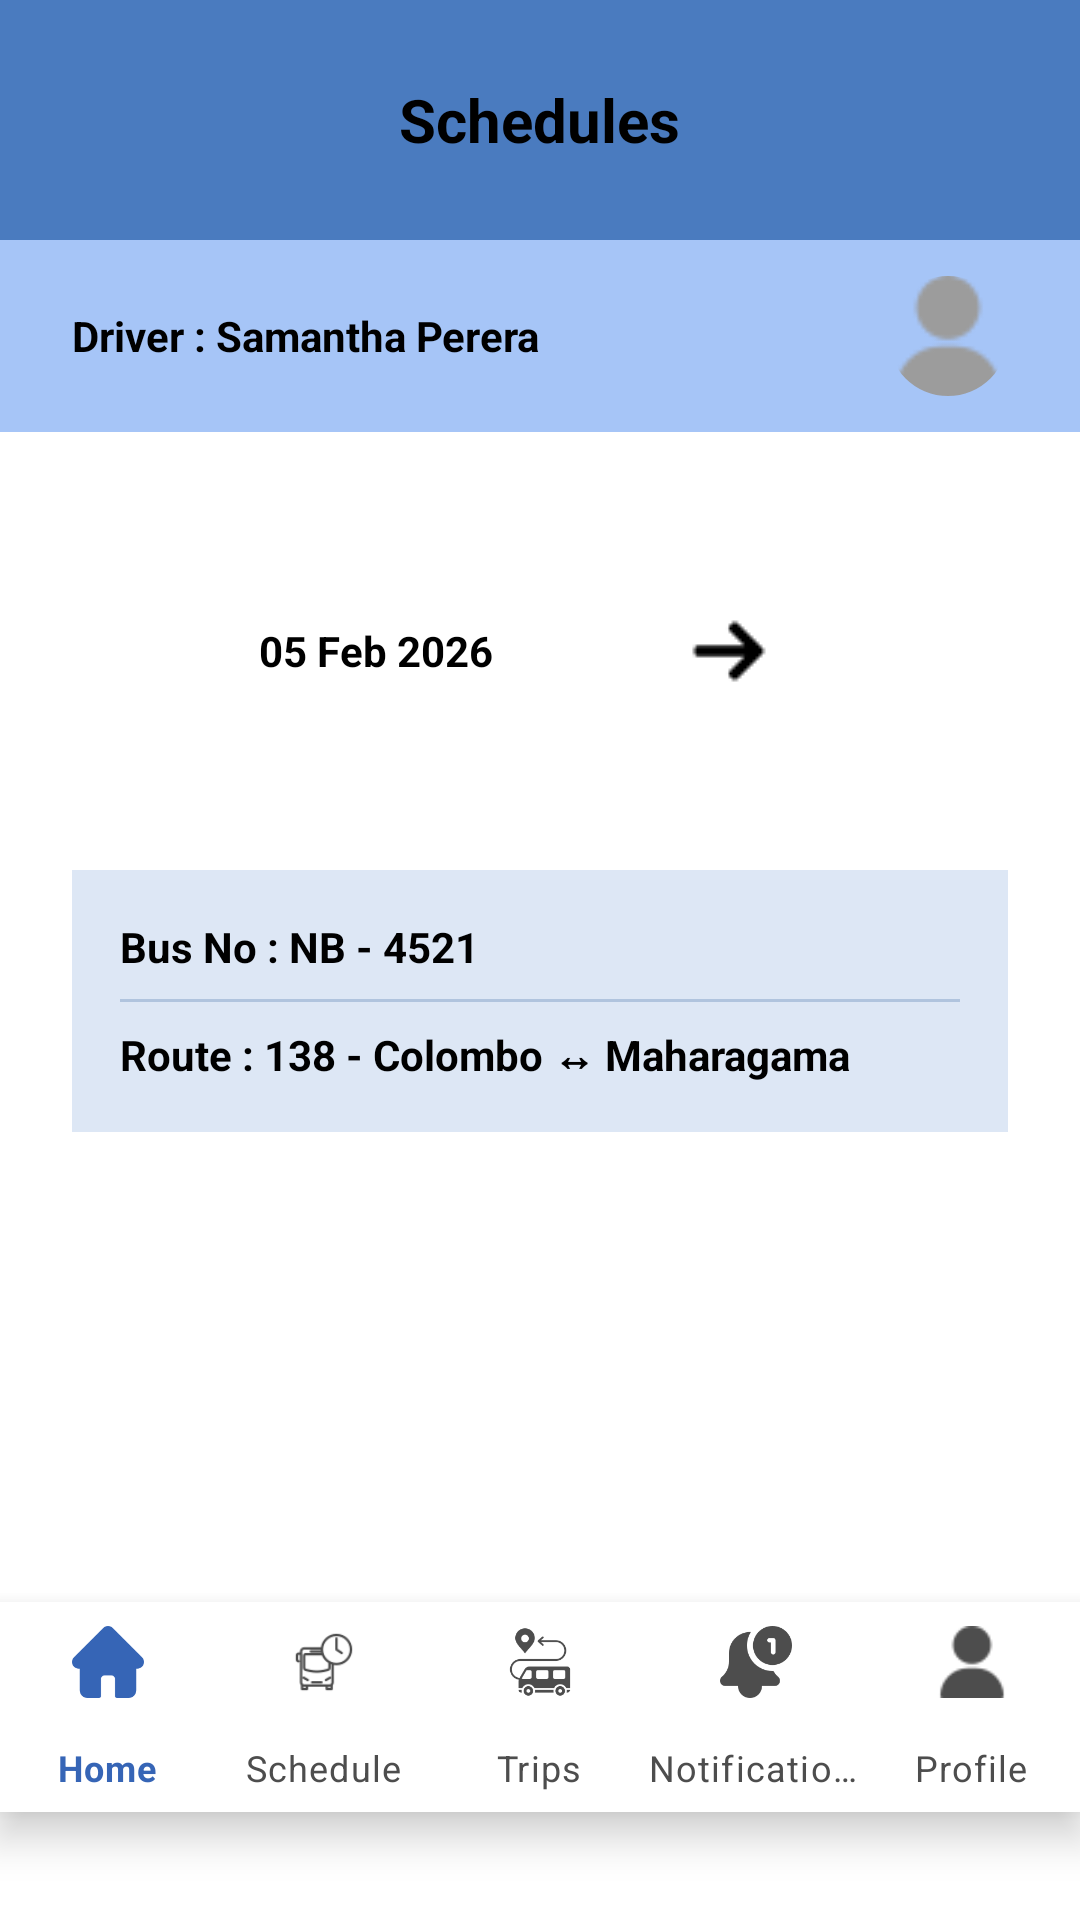

Where to tap for icons on this 1080x1920 app screen, as (x=x, y=y):
rightarrow: (x=729, y=651)
user: (x=948, y=336)
